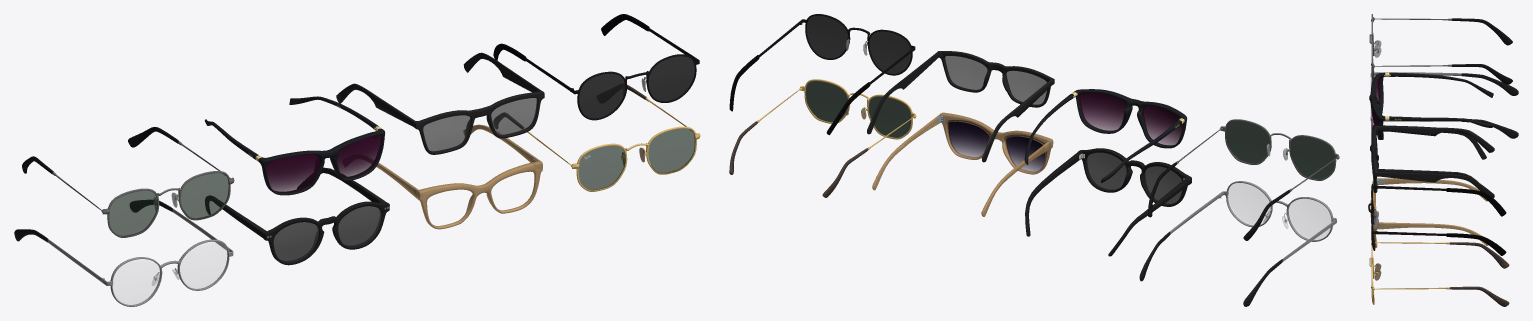
The model's file is glasses-set.glb.
3 views of the same model, side by side, from view 1: azimuth 30°, elevation 25°; view 2: azimuth 150°, elevation 25°; view 3: azimuth 270°, elevation 25° (orthographic). The views are drawn at different scales.
Parts seen in each view (by area): view 1: Cube.001_Inesta_03_0, Cube_Vogue_01_0, Plane.003_Inesta_01_0, Plane.004_Mustang_0, Plane.002_Osse_01_0, Plane_Tommy_01_0, Plane.001_Rayban_01_0, Cube.002_Inesta_02_0; view 2: Plane.004_Mustang_0, Cube.001_Inesta_03_0, Plane.002_Osse_01_0, Plane_Tommy_01_0, Plane.003_Inesta_01_0, Cube.002_Inesta_02_0, Cube_Vogue_01_0, Plane.001_Rayban_01_0; view 3: Cube.001_Inesta_03_0, Plane.004_Mustang_0, Plane_Tommy_01_0, Plane.002_Osse_01_0, Cube.002_Inesta_02_0, Plane.001_Rayban_01_0, Cube_Vogue_01_0, Plane.003_Inesta_01_0.
Part boxes in pixels (<box>): Cube.001_Inesta_03_0: <box>336,52,544,154</box>; Cube_Vogue_01_0: <box>14,200,233,306</box>; Plane.003_Inesta_01_0: <box>205,167,389,265</box>; Plane.004_Mustang_0: <box>205,96,385,195</box>; Plane.002_Osse_01_0: <box>22,127,234,237</box>; Plane_Tommy_01_0: <box>493,14,699,120</box>; Plane.001_Rayban_01_0: <box>493,84,700,191</box>; Cube.002_Inesta_02_0: <box>366,124,542,229</box>; Plane.004_Mustang_0: <box>1024,89,1187,182</box>; Cube.001_Inesta_03_0: <box>867,51,1054,162</box>; Plane.002_Osse_01_0: <box>1148,119,1339,240</box>; Plane_Tommy_01_0: <box>729,14,915,135</box>; Plane.003_Inesta_01_0: <box>1025,148,1191,256</box>; Cube.002_Inesta_02_0: <box>872,112,1053,216</box>; Cube_Vogue_01_0: <box>1139,181,1336,306</box>; Plane.001_Rayban_01_0: <box>729,79,916,197</box>; Cube.001_Inesta_03_0: <box>1371,125,1494,197</box>; Plane.004_Mustang_0: <box>1369,72,1493,139</box>; Plane_Tommy_01_0: <box>1368,184,1506,255</box>; Plane.002_Osse_01_0: <box>1369,14,1512,84</box>; Cube.002_Inesta_02_0: <box>1370,178,1488,247</box>; Plane.001_Rayban_01_0: <box>1369,242,1509,306</box>; Cube_Vogue_01_0: <box>1370,67,1518,138</box>; Plane.003_Inesta_01_0: <box>1370,125,1486,189</box>.
Size of the model in its own units: 67.15 by 12.88 by 19.53.
Materials: 8 (8 with a texture image).
